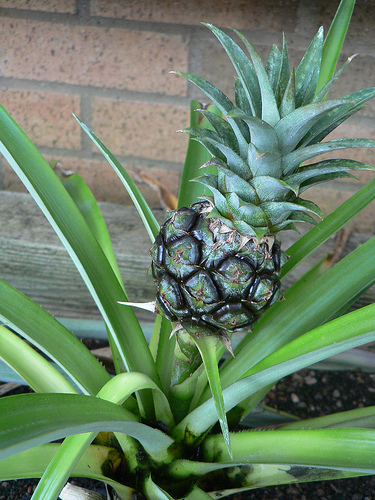pineapple: (145, 16, 373, 337)
